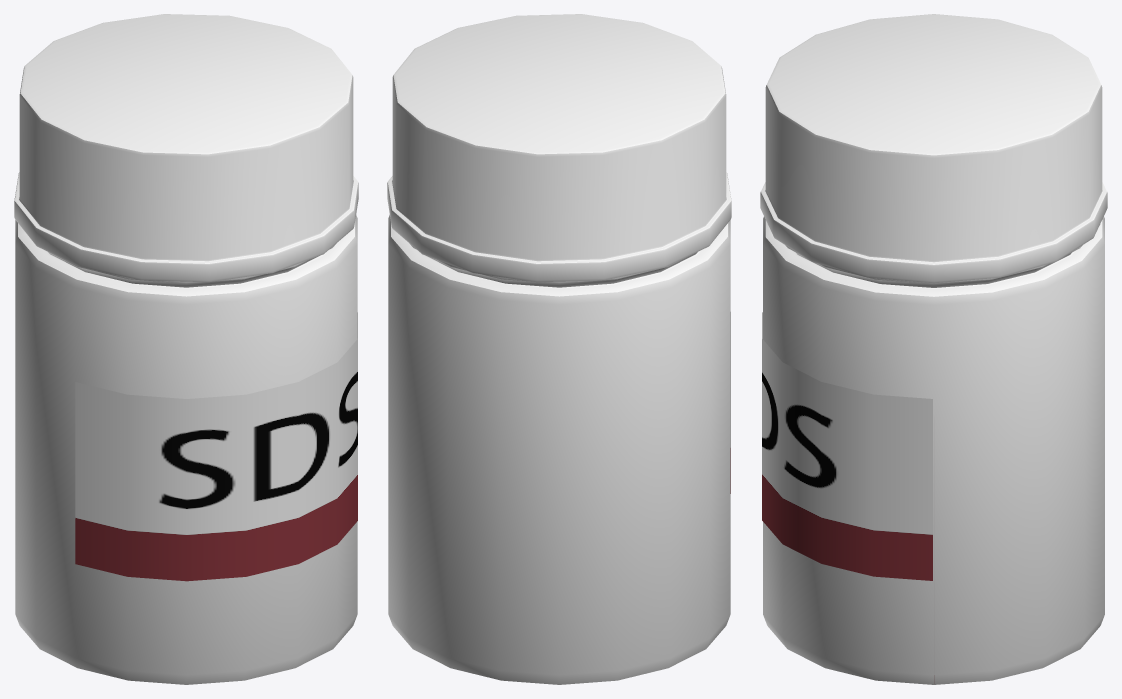
File: SDS.glb
The picture shows the model from 3 angles, left to right: view 1: azimuth 30°, elevation 25°; view 2: azimuth 150°, elevation 25°; view 3: azimuth 270°, elevation 25°; orthographic projection.
Parts seen in each view (by area): view 1: SDS, Cylinder005, 对象004; view 2: SDS, Cylinder005; view 3: SDS, Cylinder005, 对象004.
Boxes of the visible parts, <box> form: SDS: <box>15,215,357,684</box>; Cylinder005: <box>14,14,358,282</box>; 对象004: <box>75,312,357,581</box>; SDS: <box>388,215,730,684</box>; Cylinder005: <box>387,14,731,282</box>; SDS: <box>763,216,1104,684</box>; Cylinder005: <box>760,14,1107,283</box>; 对象004: <box>762,312,932,580</box>.
Size of the model in its own units: 0.0576 by 0.0976 by 0.0575.
Materials: 1 (1 with a texture image).
